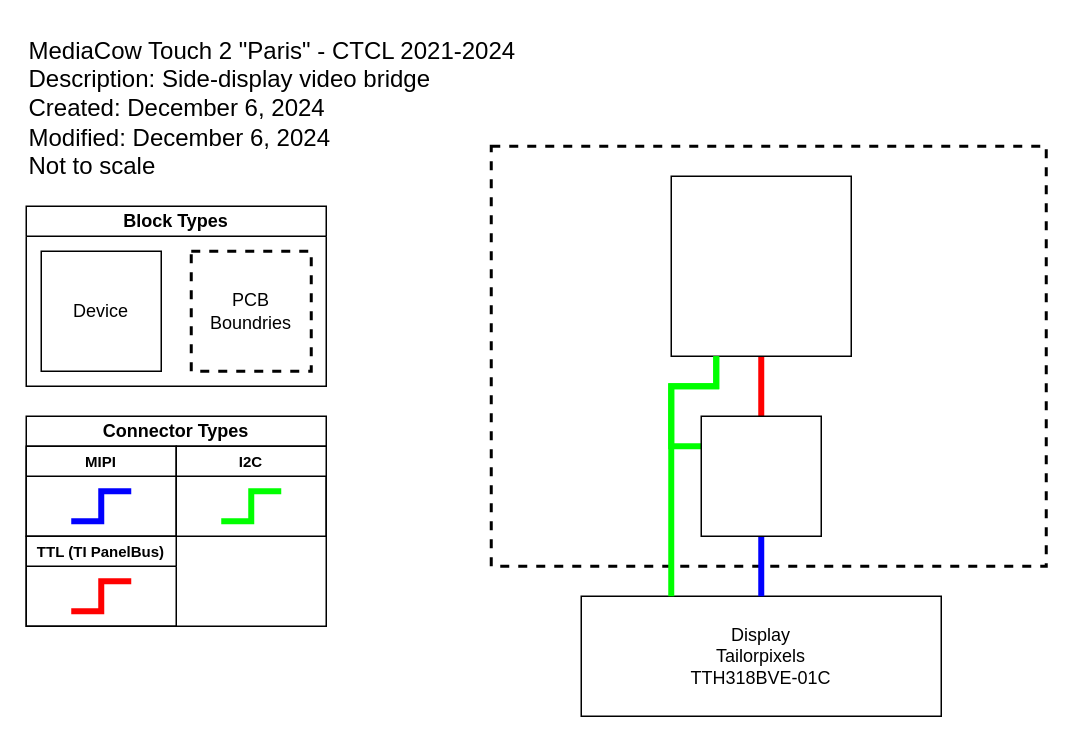
The diagram is 1074 pixels wide and 743 high, and some of its shapes have lost their labels. Here are the shapes that lost their labels. From the top down, the centre of each, then its label:
pixel 760 265: SMEC Sunplus SP7021
pixel 760 475: TTL-MIPI Toshiba TC358778XBG
